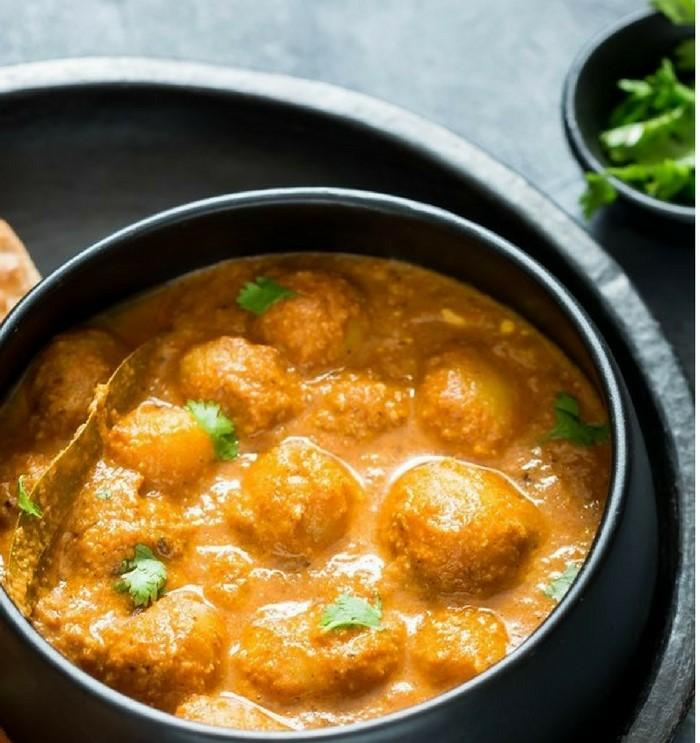DumAloo: (0, 250, 618, 730)
